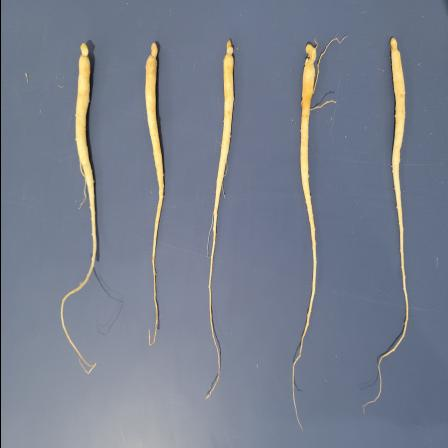Ginseng: (359, 26, 409, 412), (57, 36, 101, 376), (287, 40, 319, 430), (204, 34, 236, 402), (143, 39, 165, 349)
head: (302, 42, 318, 66), (76, 40, 90, 66), (222, 36, 234, 64), (146, 40, 158, 66), (388, 34, 400, 56)
